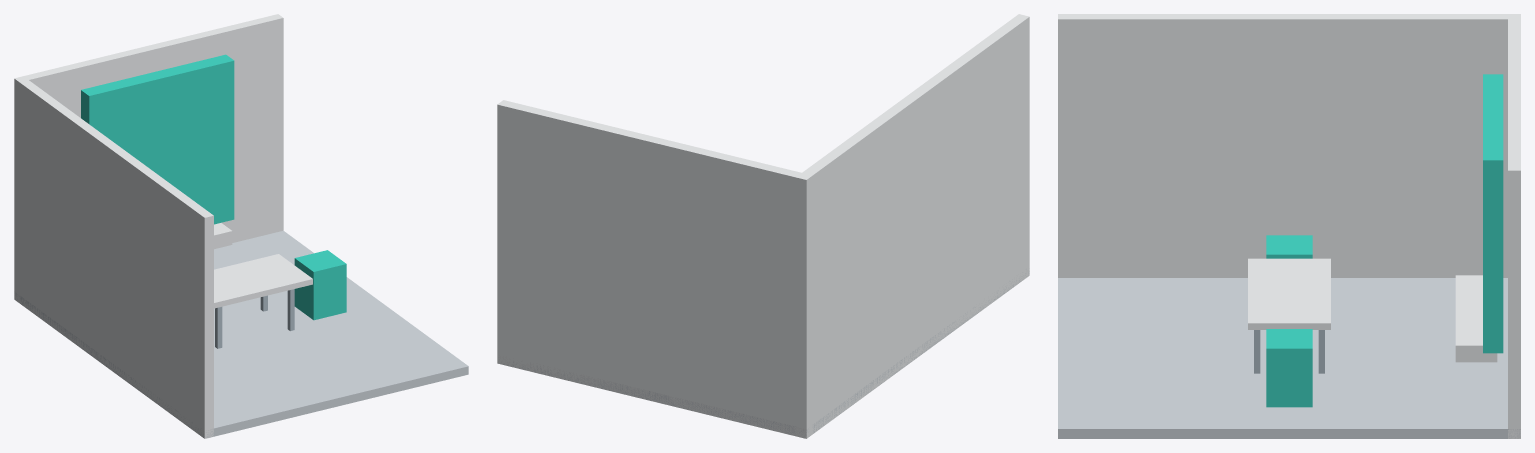
3 views of the same model, side by side, from view 1: azimuth 30°, elevation 25°; view 2: azimuth 150°, elevation 25°; view 3: azimuth 270°, elevation 25° (orthographic). The views are drawn at different scales.
Visible parts, largest first — view 1: Exhibition Booth Concept; view 2: Exhibition Booth Concept; view 3: Exhibition Booth Concept.
Boxes of the visible parts, left/top/right/bottom form: Exhibition Booth Concept: left=14, top=14, right=468, bottom=438; Exhibition Booth Concept: left=497, top=14, right=1029, bottom=438; Exhibition Booth Concept: left=1058, top=14, right=1520, bottom=438.
Bounding box in the file's own units: 4 × 3.2 × 5.
